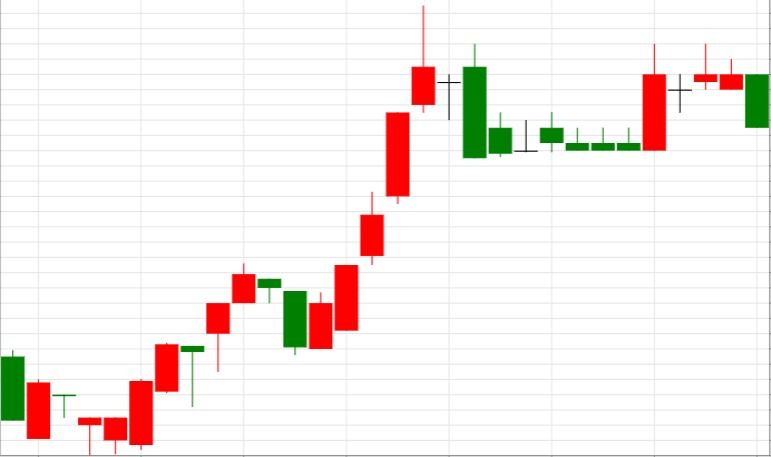shooting_star_fall: (309, 6, 436, 350)
